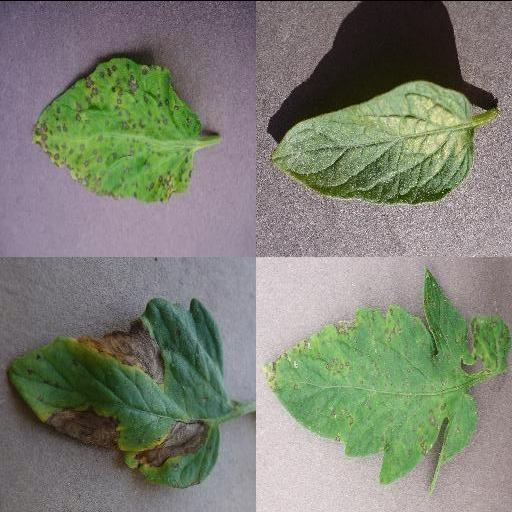Early Blight: (7, 297, 225, 488)
Septoria: (264, 270, 480, 497), (31, 54, 203, 200)
Spider Mites: (269, 78, 475, 206)
